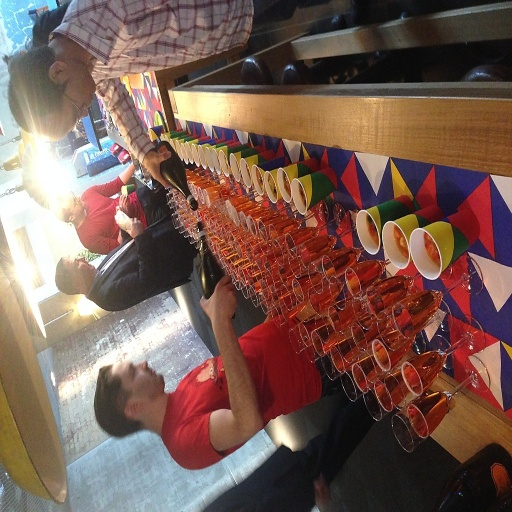hand: (202, 280, 236, 362), (141, 150, 173, 190), (125, 216, 144, 240), (117, 192, 130, 212)
